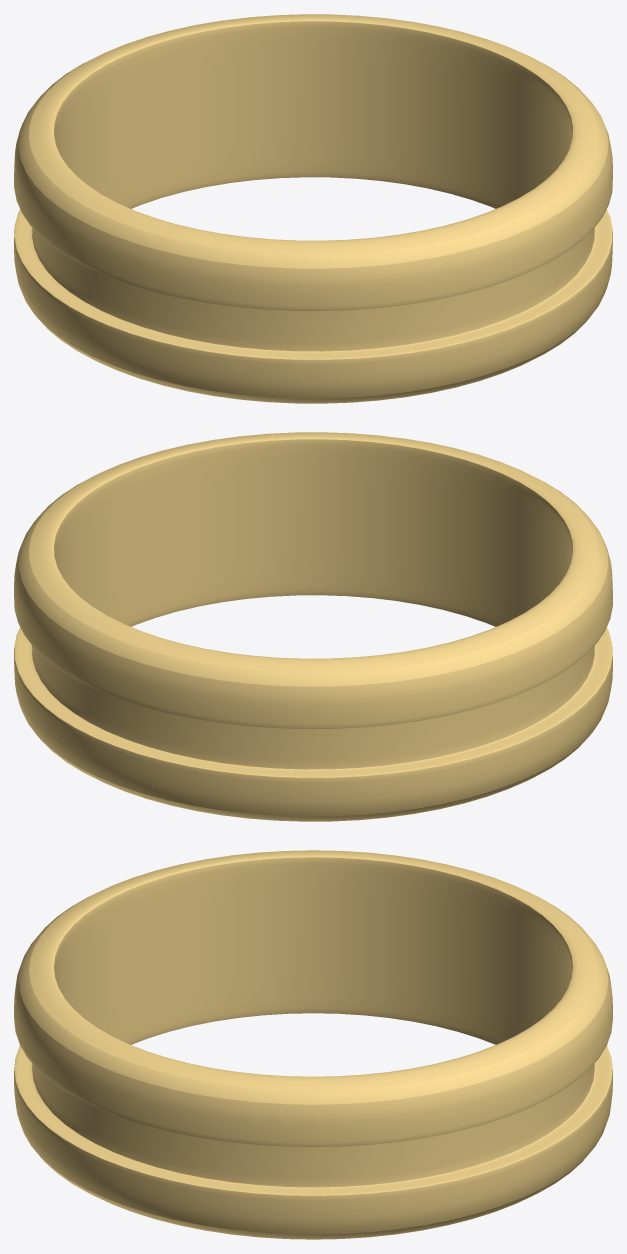
3 renders of one model, top to bottom at view 1: azimuth 30°, elevation 25°; view 2: azimuth 150°, elevation 25°; view 3: azimuth 270°, elevation 25°, orthographic.
Parts seen in each view (by area): view 1: Base_Metal, Engraving_Metal; view 2: Base_Metal, Engraving_Metal; view 3: Base_Metal, Engraving_Metal.
Part boxes in pixels (x1=…): Base_Metal: x1=14, y1=14, x2=612, y2=403; Engraving_Metal: x1=54, y1=21, x2=572, y2=208; Base_Metal: x1=14, y1=432, x2=612, y2=821; Engraving_Metal: x1=54, y1=439, x2=572, y2=626; Base_Metal: x1=14, y1=850, x2=612, y2=1239; Engraving_Metal: x1=54, y1=857, x2=572, y2=1044.
Size of the model in its own units: 1.9 by 0.5494 by 1.9.
